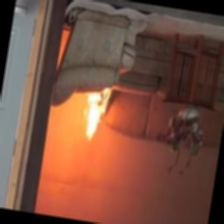fire: (70, 89, 113, 147)
